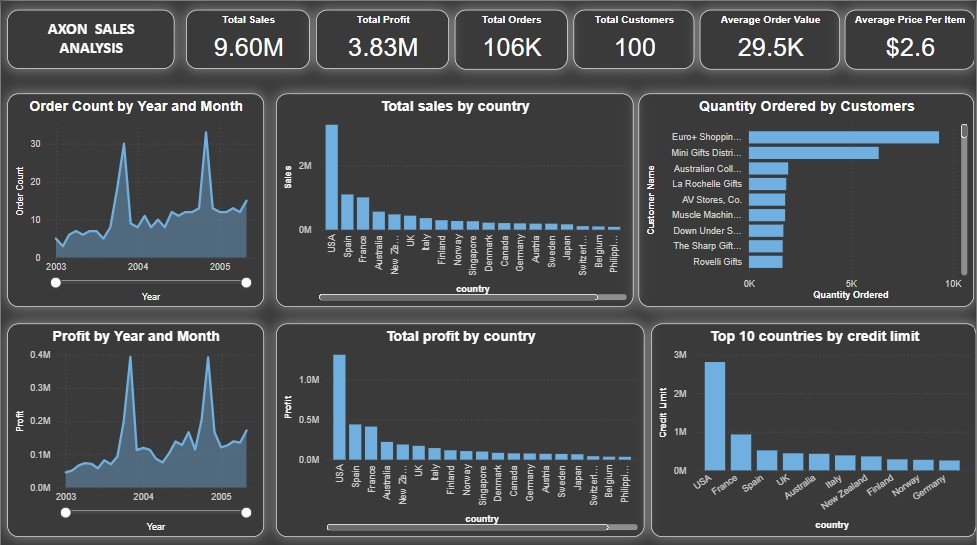

Layout of this report page (visuals, bound fields, positions):
{"tool":"powerbi","page":{"name":"Sales Dashboard","canvas":[1280,720],"ordinal":0},"visuals":[{"type":"card","title":"Total Customers","fields":{"Values":["PBIElements.Total customers"]},"box":[750,11.7,158.5,77.7],"z":0},{"type":"card","title":"Total Orders","fields":{"Values":["PBIElements.Total Orders"]},"box":[595.7,11.7,147.9,78.7],"z":1000},{"type":"card","title":"Total Sales","fields":{"Values":["PBIElements.Total sales"]},"box":[242.6,11.7,162.8,77.7],"z":2000},{"type":"card","title":"Total Profit","fields":{"Values":["PBIElements.Profit"]},"box":[412.8,11.7,174.5,77.7],"z":3000},{"type":"card","title":"Average Order Value","fields":{"Values":["PBIElements.AverageOrderValue"]},"box":[916,11.7,184,78.7],"z":4000},{"type":"card","title":"Average Price Per Item","fields":{"Values":["PBIElements.AveragePricePerItem"]},"box":[1106.4,11.7,170.2,78.7],"z":5000},{"type":"lineChart","fields":{"Y":["PBIElements.Order Count"],"Category":["classicmodels orders.orderDate.Variation.Date Hierarchy.Year","classicmodels orders.orderDate.Variation.Date Hierarchy.Month"]},"box":[7.8,121.1,336.7,280],"z":6000},{"type":"clusteredBarChart","title":"Quantity Ordered by Customers","fields":{"Y":["Sum(classicmodels orderdetails.quantityOrdered)"],"Category":["classicmodels customers.customerName"]},"box":[836.7,121.1,440,280],"z":7000},{"type":"lineChart","fields":{"Y":["PBIElements.Profit"],"Category":["classicmodels orders.orderDate.Variation.Date Hierarchy.Year","classicmodels orders.orderDate.Variation.Date Hierarchy.Month"]},"box":[7.8,423.3,336.7,280],"z":8000},{"type":"clusteredColumnChart","title":"Total sales by country","fields":{"Category":["classicmodels customers.country"],"Y":["PBIElements.Total sales"]},"box":[361.1,121.1,468.9,280],"z":9000},{"type":"clusteredColumnChart","title":"Top 10 countries by credit limit","fields":{"Y":["Sum(classicmodels customers.creditLimit)"],"Category":["classicmodels customers.country"]},"box":[852.2,423.3,427.8,280],"z":10000},{"type":"clusteredColumnChart","title":"Total profit by country","fields":{"Category":["classicmodels customers.country"],"Y":["PBIElements.Profit"]},"box":[361.1,423.3,483.3,280],"z":11000},{"type":"textbox","box":[7.8,12.2,218.9,77.8],"z":12000}]}

Visuals, with their boxes in screenshot pixels (x1, y1, x2, y2), scaled from the page's 1280x720 canvas onto the 977x545 screenshot:
"Total Customers" card: {"x1": 572, "y1": 9, "x2": 693, "y2": 68}
"Total Orders" card: {"x1": 455, "y1": 9, "x2": 568, "y2": 68}
"Total Sales" card: {"x1": 185, "y1": 9, "x2": 309, "y2": 68}
"Total Profit" card: {"x1": 315, "y1": 9, "x2": 448, "y2": 68}
"Average Order Value" card: {"x1": 699, "y1": 9, "x2": 840, "y2": 68}
"Average Price Per Item" card: {"x1": 844, "y1": 9, "x2": 974, "y2": 68}
lineChart - PBIElements.Order Count x classicmodels orders.orderDate.Variation.Date Hierarchy.Year: {"x1": 6, "y1": 92, "x2": 263, "y2": 304}
"Quantity Ordered by Customers" clusteredBarChart: {"x1": 639, "y1": 92, "x2": 974, "y2": 304}
lineChart - PBIElements.Profit x classicmodels orders.orderDate.Variation.Date Hierarchy.Year: {"x1": 6, "y1": 320, "x2": 263, "y2": 532}
"Total sales by country" clusteredColumnChart: {"x1": 276, "y1": 92, "x2": 634, "y2": 304}
"Top 10 countries by credit limit" clusteredColumnChart: {"x1": 650, "y1": 320, "x2": 976, "y2": 532}
"Total profit by country" clusteredColumnChart: {"x1": 276, "y1": 320, "x2": 645, "y2": 532}
textbox: {"x1": 6, "y1": 9, "x2": 173, "y2": 68}
